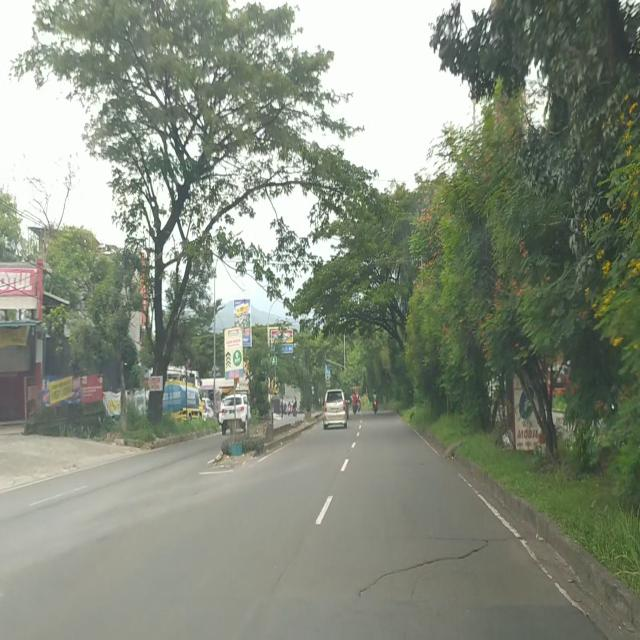Sewer Cover: (358, 540, 486, 588), (408, 533, 515, 543)
